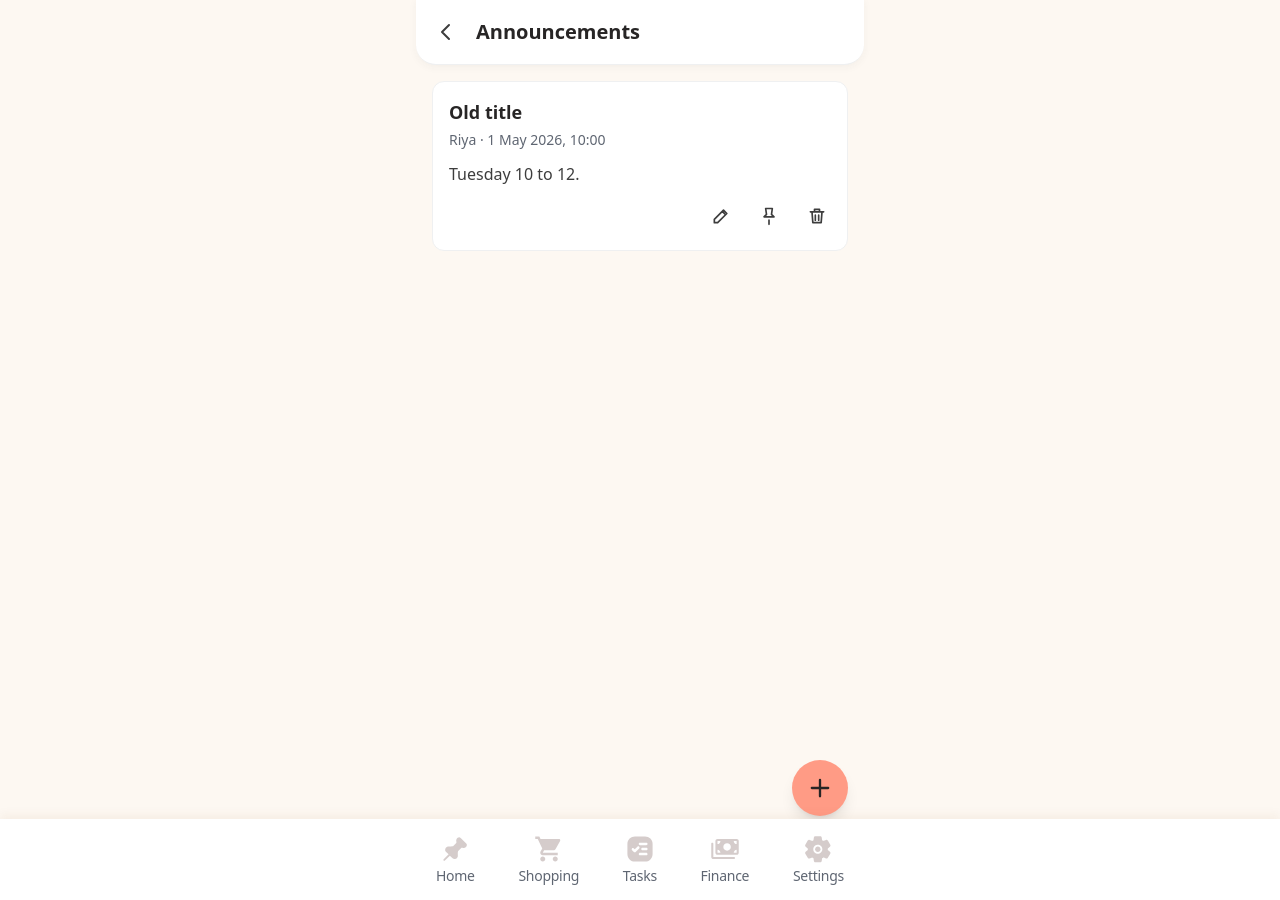
Test: editing and deleting › a conflict closes the sheet, refreshes, and explains
The width and height of the screenshot is (1280, 900).
Click the button named "Edit": (721, 216) x1=699 y1=194 x2=743 y2=238
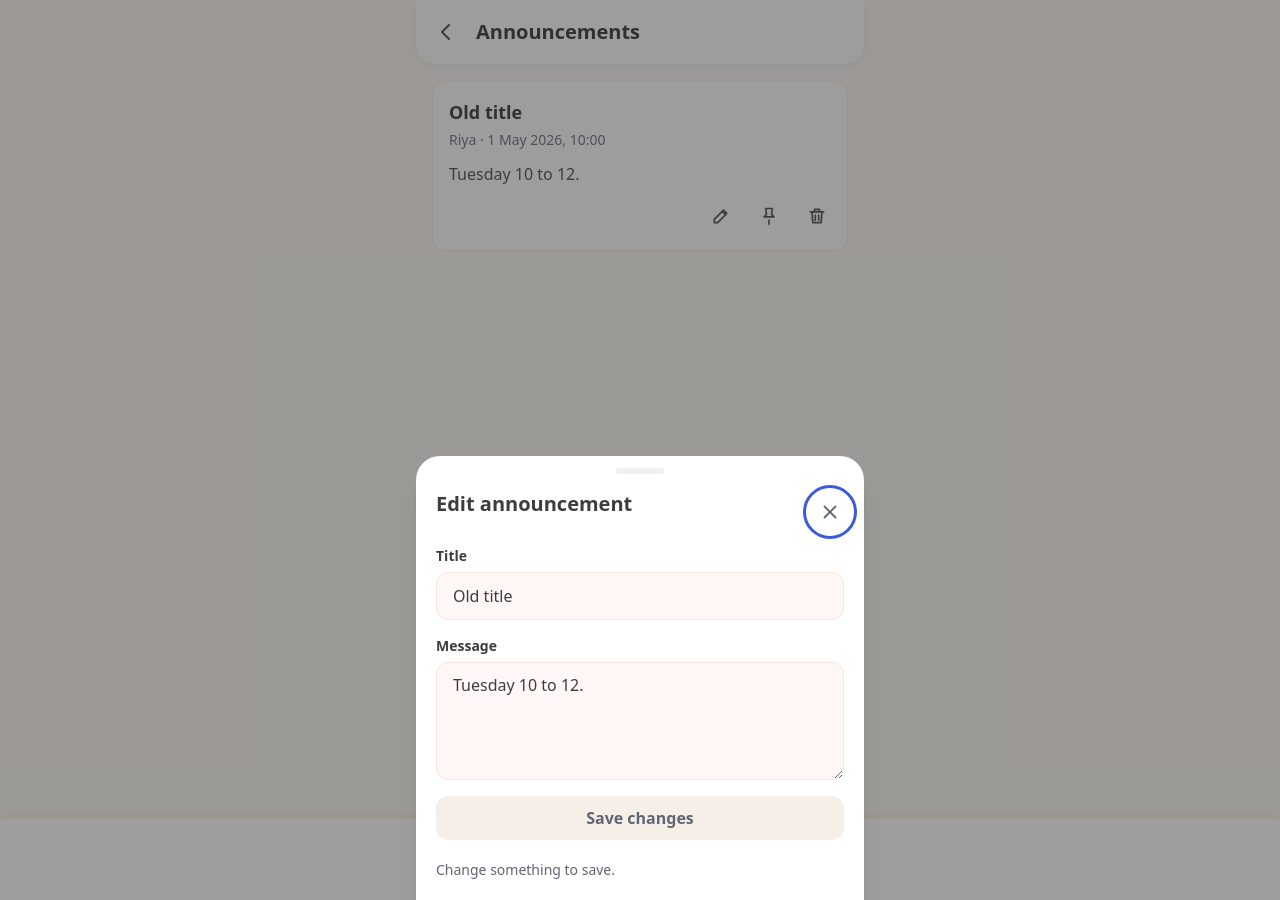
In the field labelled "Title": (640, 596) x1=436 y1=572 x2=844 y2=620, type "!"
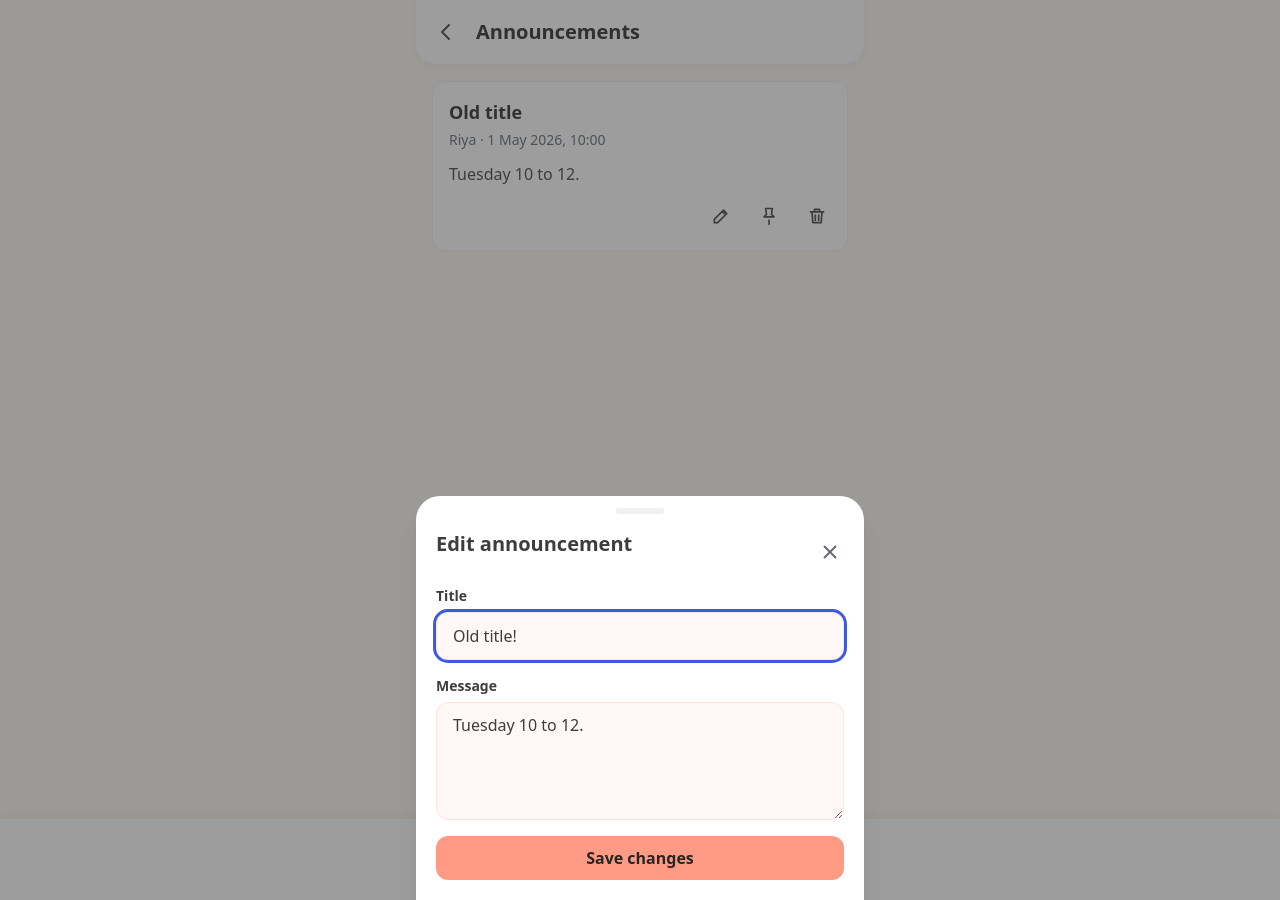
Click the button "Save changes": (640, 858) x1=436 y1=836 x2=844 y2=880
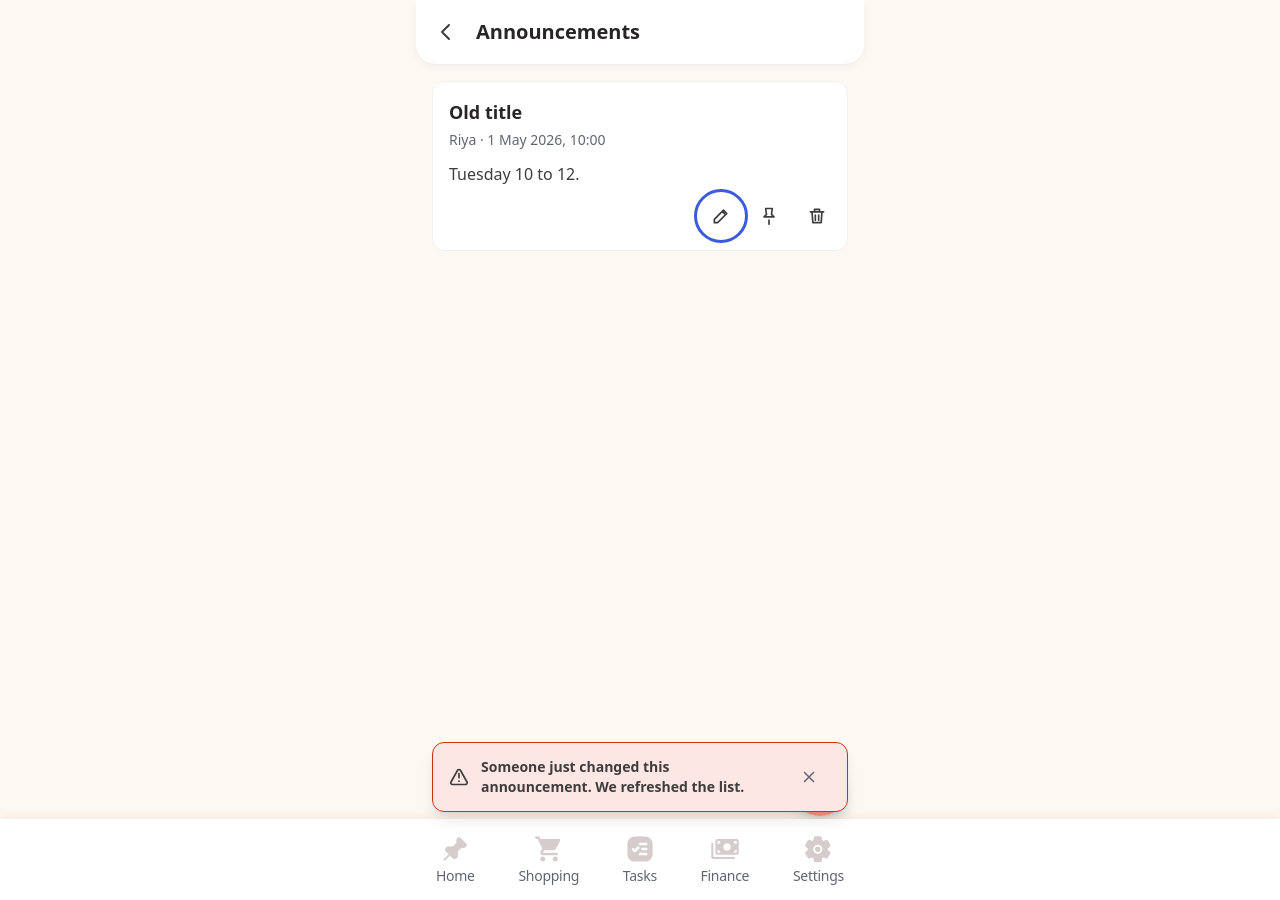
expect the text "Someone just changed this announcement. We refreshed the list." is shown: met, box x1=481 y1=757 x2=775 y2=797
